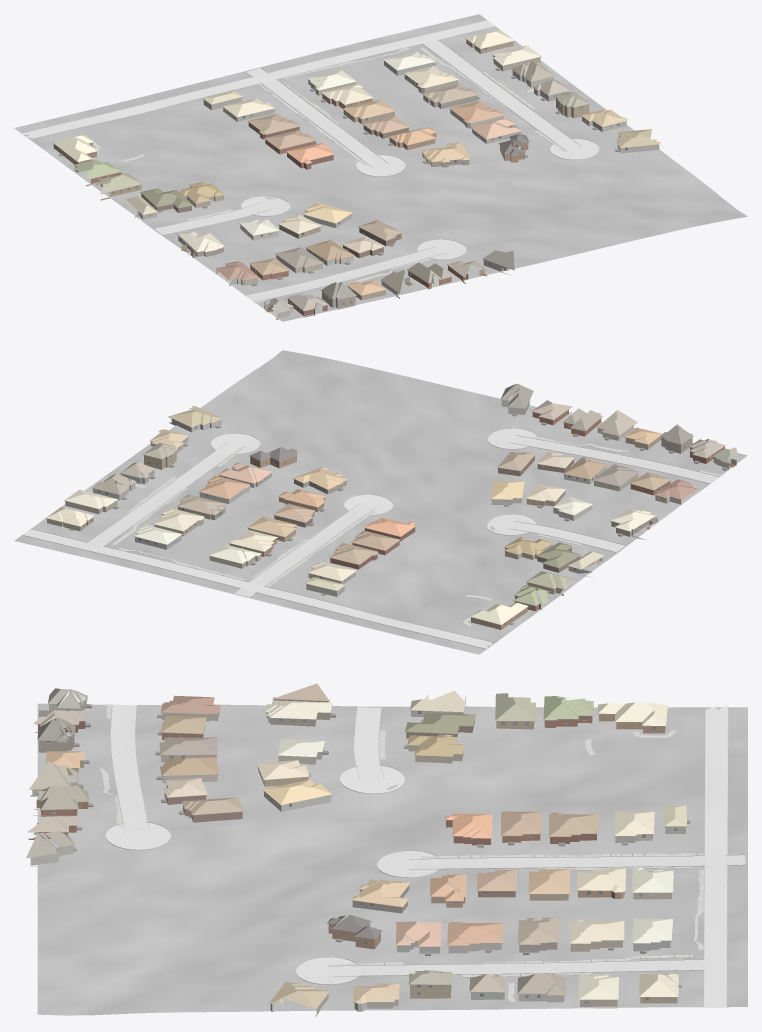
3 views of the same model, one above another, from view 1: azimuth 30°, elevation 25°; view 2: azimuth 150°, elevation 25°; view 3: azimuth 270°, elevation 25° (orthographic). The views are drawn at different scales.
Visible parts, largest first — view 1: ground, roof, concrete, wall, asphalt, curb, detail, wall_stucco, walk, wall_stone; view 2: ground, roof, concrete, wall, asphalt, curb, detail, wall_stucco, walk, wall_stone; view 3: ground, roof, concrete, wall, asphalt, detail, curb, walk, wall_stucco, wall_stone.
Part boxes in pixels (x1,y1,x2,y2): ground: (14,14,747,321); roof: (53,30,660,312); concrete: (155,40,599,301); wall: (53,39,589,317); asphalt: (20,20,494,138); curb: (22,20,599,303); detail: (53,38,659,313); wall_stucco: (203,61,568,319); walk: (91,47,565,303); wall_stone: (134,68,659,274); ground: (14,350,747,654); roof: (46,383,738,624); concrete: (88,428,719,597); wall: (47,409,724,629); asphalt: (23,529,493,649); curb: (22,428,719,649); detail: (46,399,728,625); wall_stucco: (121,425,730,596); walk: (112,436,722,626); wall_stone: (93,398,603,577); ground: (37,703,747,1015); roof: (26,683,686,1009); concrete: (105,704,745,984); wall: (28,697,677,1008); asphalt: (704,705,727,1006); detail: (28,698,690,1009); curb: (99,704,745,1006); walk: (99,704,704,1001); wall_stucco: (30,699,685,999); wall_stone: (30,696,564,1016).
Bounding box in the file's own units: 261 × 14.62 × 258.
